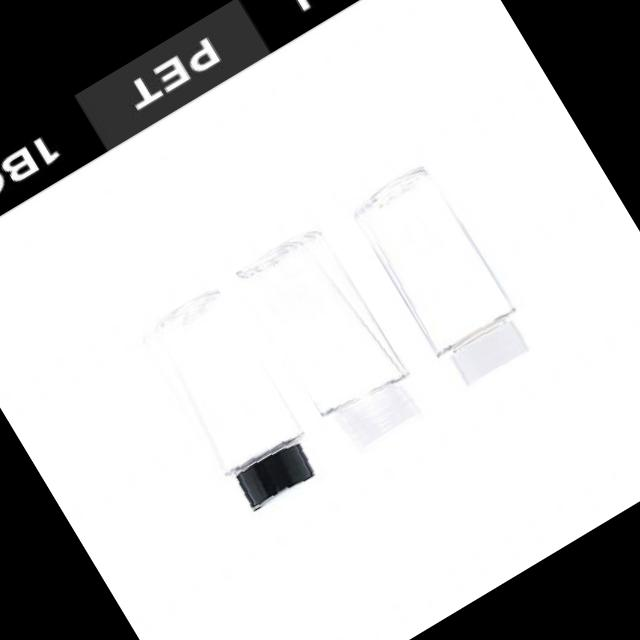plastic bottle: (126, 284, 327, 524), (234, 221, 430, 456), (347, 163, 532, 394)
